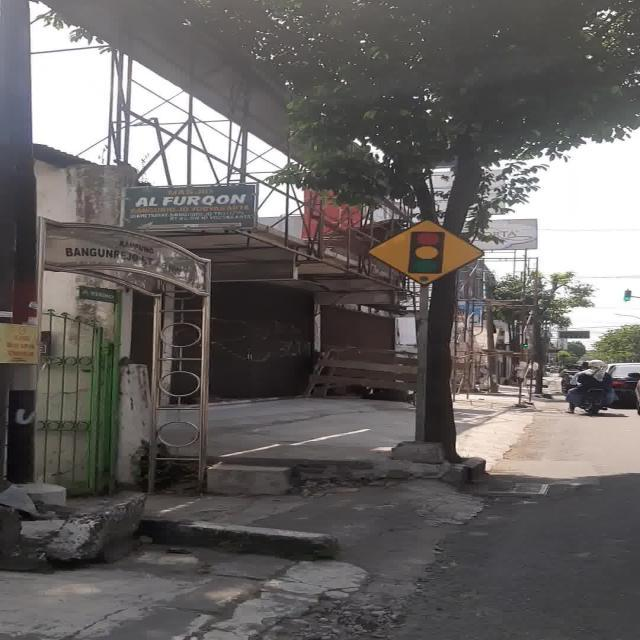Lampu Lalu Lintas: (366, 218, 484, 286)
